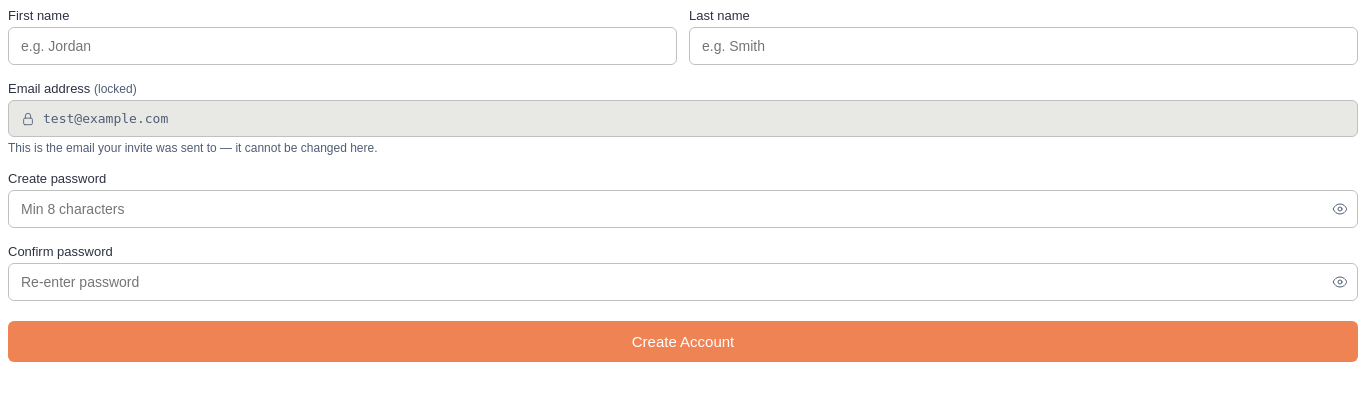
Test case: AccountSetupForm › shows password strength meter when typing password
This screenshot has width=1366, height=406.
Check: the text "Strength:" is not shown
In the password field labelled "Create password": point(683, 209) [8,190,1358,228], type "ab"
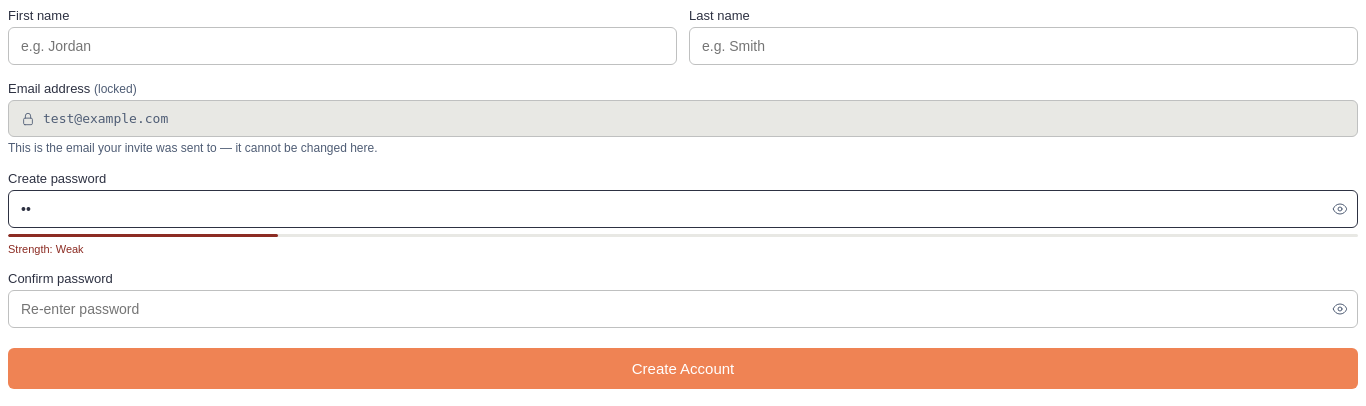
Check: the text "Strength: Weak" is shown, box [8,243,84,255]
